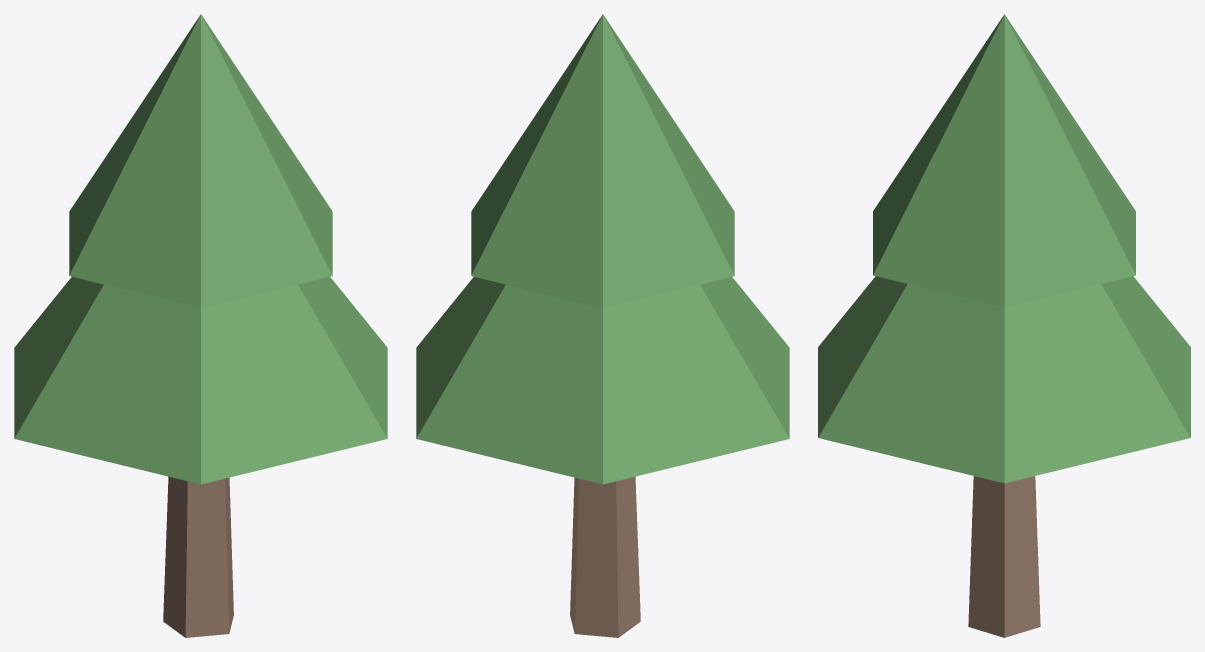
The model's file is TreeLow.glb.
3 renders of one model, left to right at view 1: azimuth 30°, elevation 25°; view 2: azimuth 150°, elevation 25°; view 3: azimuth 270°, elevation 25°, orthographic.
Visible parts, largest first — view 1: TreeLow; view 2: TreeLow; view 3: TreeLow.
Boxes of the visible parts, x1,y1,x2,y2 form: TreeLow: (14, 14, 387, 637); TreeLow: (416, 14, 789, 637); TreeLow: (818, 14, 1190, 637).
Size of the model in its own units: 3.4 by 5.3 by 2.94.
